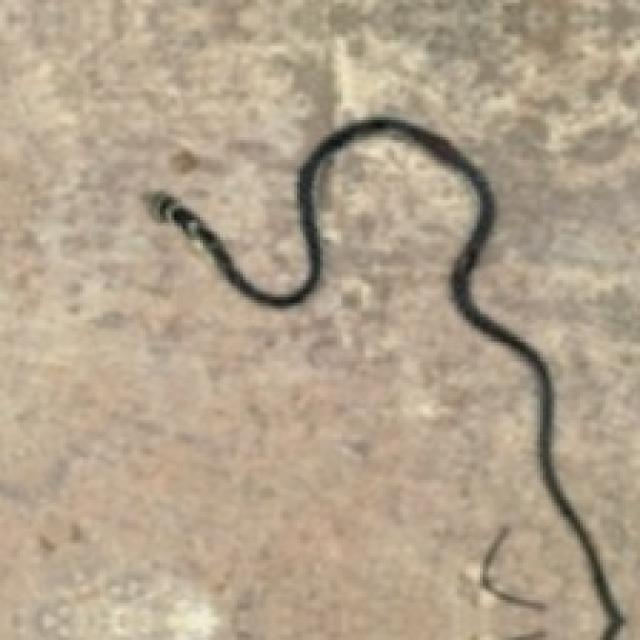king cobra: (143, 117, 623, 637)
